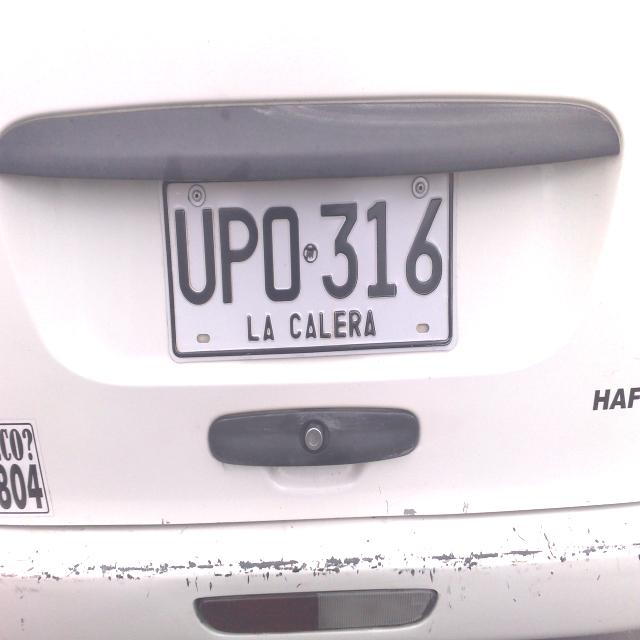placa: (156, 156, 462, 370)
